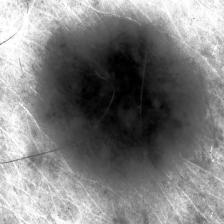Benign Marking or Mole: (49, 32, 198, 169)
